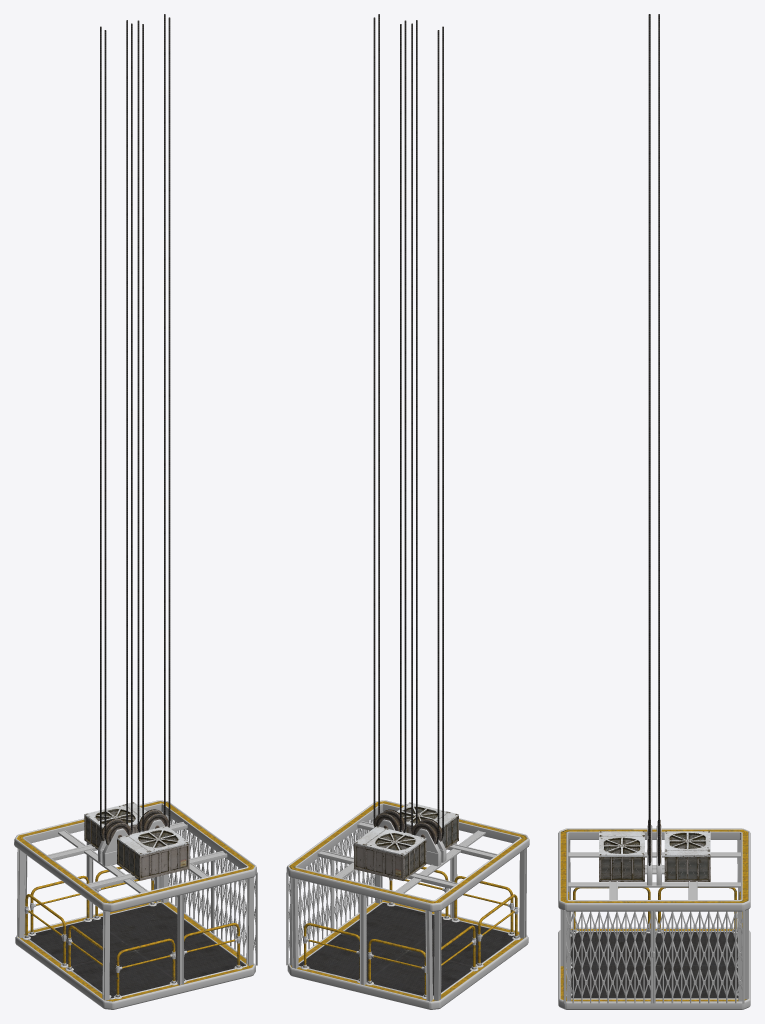
Rendered from prop_lift_exit.fbx.
The picture shows the model from 3 angles, left to right: view 1: azimuth 30°, elevation 25°; view 2: azimuth 150°, elevation 25°; view 3: azimuth 270°, elevation 25°; orthographic projection.
Visible parts, largest first — view 1: prop_lift_exit_carriage, prop_lift_exit_wires, prop_lift_exit_mechanism, door_exit_inner; view 2: prop_lift_exit_carriage, prop_lift_exit_wires, prop_lift_exit_mechanism, door_exit_inner; view 3: prop_lift_exit_carriage, door_exit_inner, prop_lift_exit_mechanism, prop_lift_exit_wires.
Part boxes in pixels (left/top/right/bottom): prop_lift_exit_carriage: left=14, top=800, right=256, bottom=1009; prop_lift_exit_wires: left=100, top=14, right=170, bottom=843; prop_lift_exit_mechanism: left=84, top=802, right=189, bottom=880; door_exit_inner: left=168, top=818, right=257, bottom=965; prop_lift_exit_carriage: left=286, top=800, right=529, bottom=1009; prop_lift_exit_wires: left=373, top=14, right=443, bottom=843; prop_lift_exit_mechanism: left=354, top=802, right=458, bottom=880; door_exit_inner: left=286, top=816, right=375, bottom=965; prop_lift_exit_carriage: left=558, top=828, right=750, bottom=1009; door_exit_inner: left=563, top=910, right=744, bottom=1003; prop_lift_exit_mechanism: left=599, top=820, right=710, bottom=885; prop_lift_exit_wires: left=648, top=14, right=659, bottom=865.
Bounding box in the file's own units: 395 × 2271 × 420.
